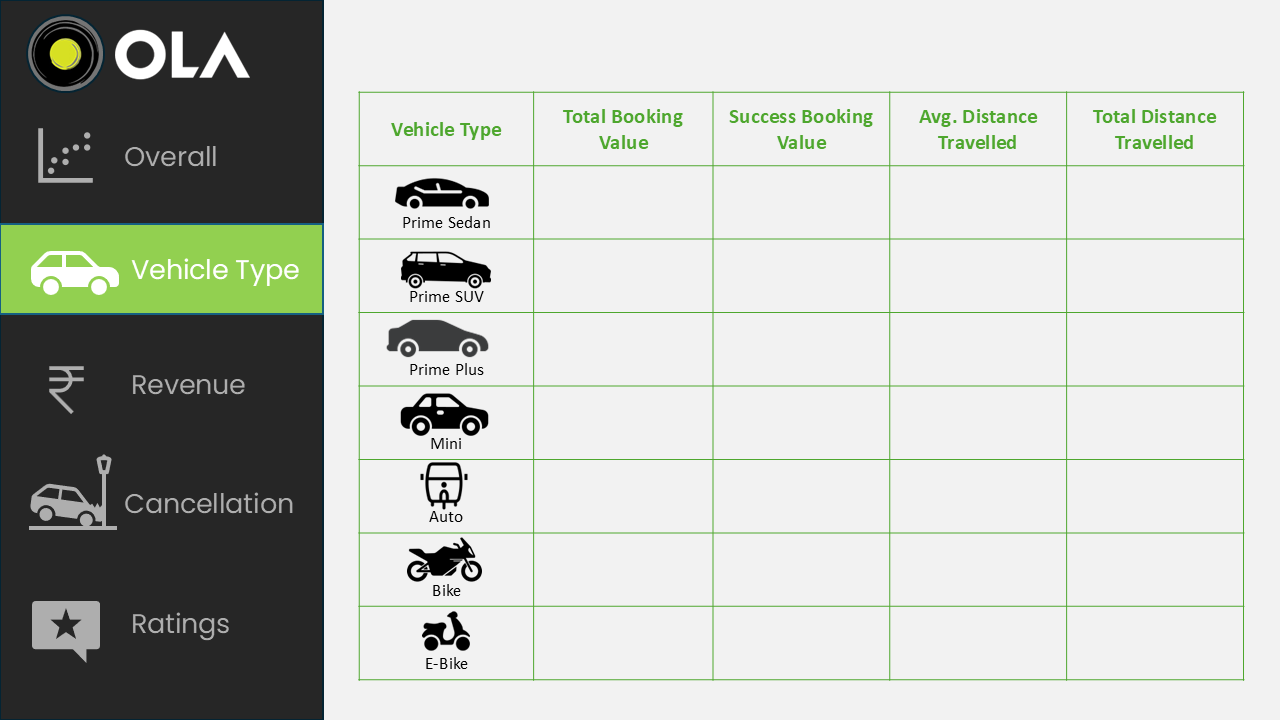

This screenshot's page, from the dashboard's own definition file:
{"tool":"powerbi","page":{"name":"Vehicle Type","canvas":[1280,720],"ordinal":1},"visuals":[{"type":"actionButton","box":[0,340.6,325,91.3],"z":0},{"type":"actionButton","box":[0,576.6,323.9,91.3],"z":1000},{"type":"actionButton","box":[0,447.4,323.9,91.3],"z":2000},{"type":"actionButton","box":[0,104.6,323.9,91.3],"z":3000},{"type":"card","fields":{"Values":["Sum(July.Booking_Value)"]},"box":[540.5,171.5,163.8,52.1],"z":4000},{"type":"card","fields":{"Values":["Sum(July.Booking_Value)"]},"box":[542,246.5,163.8,55.1],"z":5000},{"type":"card","fields":{"Values":["Sum(July.Booking_Value)"]},"box":[542,312.3,163.8,62.8],"z":6000},{"type":"card","fields":{"Values":["Sum(July.Booking_Value)"]},"box":[540.5,385.8,163.8,62.8],"z":7000},{"type":"card","fields":{"Values":["Sum(July.Booking_Value)"]},"box":[540.5,462.4,163.8,62.8],"z":8000},{"type":"card","fields":{"Values":["Sum(July.Booking_Value)"]},"box":[540.5,538.9,163.8,62.8],"z":9000},{"type":"card","fields":{"Values":["Sum(July.Booking_Value)"]},"box":[542,606.3,163.8,62.8],"z":10000},{"type":"card","fields":{"Values":["Sum(July.Booking_Value)"]},"box":[715,165.4,163.8,62.8],"z":11000},{"type":"card","fields":{"Values":["Sum(July.Booking_Value)"]},"box":[715,238.9,163.8,62.8],"z":12000},{"type":"card","fields":{"Values":["Sum(July.Booking_Value)"]},"box":[715,601.7,163.8,62.8],"z":13000},{"type":"card","fields":{"Values":["Sum(July.Booking_Value)"]},"box":[715,525.2,163.8,62.8],"z":14000},{"type":"card","fields":{"Values":["Sum(July.Booking_Value)"]},"box":[715,459.3,163.8,62.8],"z":15000},{"type":"card","fields":{"Values":["Sum(July.Booking_Value)"]},"box":[715,384.3,163.8,62.8],"z":16000},{"type":"card","fields":{"Values":["Sum(July.Booking_Value)"]},"box":[715,312.3,163.8,62.8],"z":17000},{"type":"card","fields":{"Values":["Avg(July.Ride_Distance)"]},"box":[895.7,538.9,163.8,62.8],"z":18000},{"type":"card","fields":{"Values":["Avg(July.Ride_Distance)"]},"box":[895.7,462.4,163.8,62.8],"z":19000},{"type":"card","fields":{"Values":["Avg(July.Ride_Distance)"]},"box":[895.7,387.4,163.8,62.8],"z":20000},{"type":"card","fields":{"Values":["Avg(July.Ride_Distance)"]},"box":[895.7,166.9,163.8,62.8],"z":21000},{"type":"card","fields":{"Values":["Avg(July.Ride_Distance)"]},"box":[895.7,309.3,163.8,62.8],"z":22000},{"type":"card","fields":{"Values":["Avg(July.Ride_Distance)"]},"box":[895.7,240.4,163.8,62.8],"z":23000},{"type":"card","fields":{"Values":["Avg(July.Ride_Distance)"]},"box":[895.7,603.3,163.8,62.8],"z":24000},{"type":"card","fields":{"Values":["Sum(July.Ride_Distance)"]},"box":[1074.8,538.9,163.8,62.8],"z":25000},{"type":"card","fields":{"Values":["Sum(July.Ride_Distance)"]},"box":[1074.8,459.3,163.8,62.8],"z":26000},{"type":"card","fields":{"Values":["Sum(July.Ride_Distance)"]},"box":[1074.8,388.9,163.8,62.8],"z":27000},{"type":"card","fields":{"Values":["Sum(July.Ride_Distance)"]},"box":[1073.3,312.3,163.8,62.8],"z":28000},{"type":"card","fields":{"Values":["Sum(July.Ride_Distance)"]},"box":[1073.3,238.9,163.8,62.8],"z":29000},{"type":"card","fields":{"Values":["Sum(July.Ride_Distance)"]},"box":[1073.3,165.4,163.8,62.8],"z":30000},{"type":"card","fields":{"Values":["Sum(July.Ride_Distance)"]},"box":[1073.3,606.3,163.8,62.8],"z":31000},{"type":"slicer","title":"Date","fields":{"Values":["July.Date"]},"box":[356.7,10.7,266.4,62.8],"z":31001}]}

Visuals, with their boxes in screenshot pixels (x1, y1, x2, y2), scaled from the page's 1280x720 canvas onto the 1280x720 screenshot:
actionButton: x1=0 y1=341 x2=325 y2=432
actionButton: x1=0 y1=577 x2=324 y2=668
actionButton: x1=0 y1=447 x2=324 y2=539
actionButton: x1=0 y1=105 x2=324 y2=196
card - Sum(July.Booking_Value): x1=540 y1=172 x2=704 y2=224
card - Sum(July.Booking_Value): x1=542 y1=246 x2=706 y2=302
card - Sum(July.Booking_Value): x1=542 y1=312 x2=706 y2=375
card - Sum(July.Booking_Value): x1=540 y1=386 x2=704 y2=449
card - Sum(July.Booking_Value): x1=540 y1=462 x2=704 y2=525
card - Sum(July.Booking_Value): x1=540 y1=539 x2=704 y2=602
card - Sum(July.Booking_Value): x1=542 y1=606 x2=706 y2=669
card - Sum(July.Booking_Value): x1=715 y1=165 x2=879 y2=228
card - Sum(July.Booking_Value): x1=715 y1=239 x2=879 y2=302
card - Sum(July.Booking_Value): x1=715 y1=602 x2=879 y2=664
card - Sum(July.Booking_Value): x1=715 y1=525 x2=879 y2=588
card - Sum(July.Booking_Value): x1=715 y1=459 x2=879 y2=522
card - Sum(July.Booking_Value): x1=715 y1=384 x2=879 y2=447
card - Sum(July.Booking_Value): x1=715 y1=312 x2=879 y2=375
card - Avg(July.Ride_Distance): x1=896 y1=539 x2=1060 y2=602
card - Avg(July.Ride_Distance): x1=896 y1=462 x2=1060 y2=525
card - Avg(July.Ride_Distance): x1=896 y1=387 x2=1060 y2=450
card - Avg(July.Ride_Distance): x1=896 y1=167 x2=1060 y2=230
card - Avg(July.Ride_Distance): x1=896 y1=309 x2=1060 y2=372
card - Avg(July.Ride_Distance): x1=896 y1=240 x2=1060 y2=303
card - Avg(July.Ride_Distance): x1=896 y1=603 x2=1060 y2=666
card - Sum(July.Ride_Distance): x1=1075 y1=539 x2=1239 y2=602
card - Sum(July.Ride_Distance): x1=1075 y1=459 x2=1239 y2=522
card - Sum(July.Ride_Distance): x1=1075 y1=389 x2=1239 y2=452
card - Sum(July.Ride_Distance): x1=1073 y1=312 x2=1237 y2=375
card - Sum(July.Ride_Distance): x1=1073 y1=239 x2=1237 y2=302
card - Sum(July.Ride_Distance): x1=1073 y1=165 x2=1237 y2=228
card - Sum(July.Ride_Distance): x1=1073 y1=606 x2=1237 y2=669
"Date" slicer: x1=357 y1=11 x2=623 y2=74
